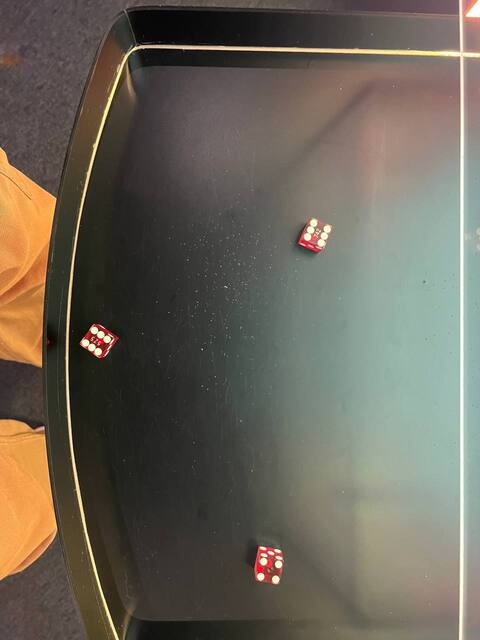four: (252, 554, 285, 587)
six: (76, 325, 117, 362), (298, 215, 335, 250)
